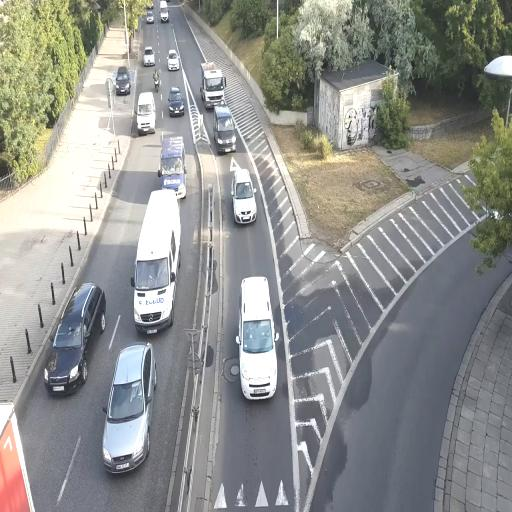vehicle: (101, 342, 157, 475), (133, 188, 181, 336), (44, 282, 106, 395), (238, 275, 278, 401), (158, 134, 187, 198), (232, 168, 257, 225), (200, 64, 226, 108), (214, 104, 236, 153), (135, 91, 157, 135), (168, 88, 186, 116), (114, 68, 131, 96), (167, 48, 180, 72), (143, 47, 155, 67)
